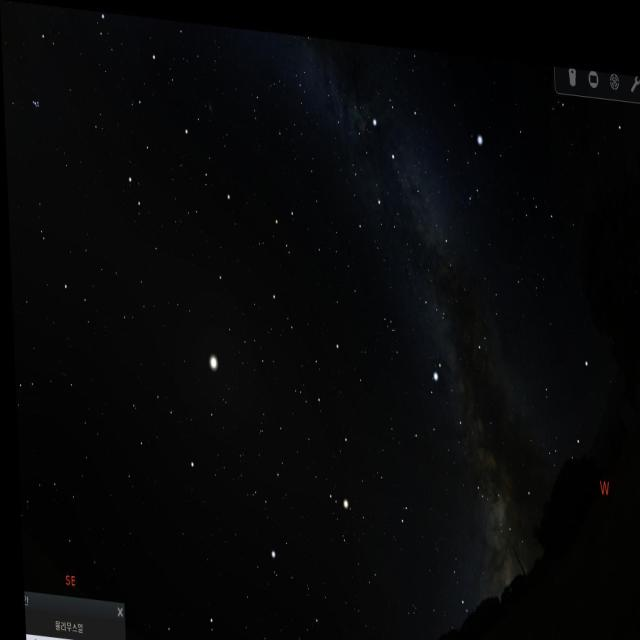aquila: (404, 340, 494, 501)
cygnus: (366, 76, 450, 240)
lyra: (462, 115, 486, 211)
pleiades: (24, 87, 48, 128)
